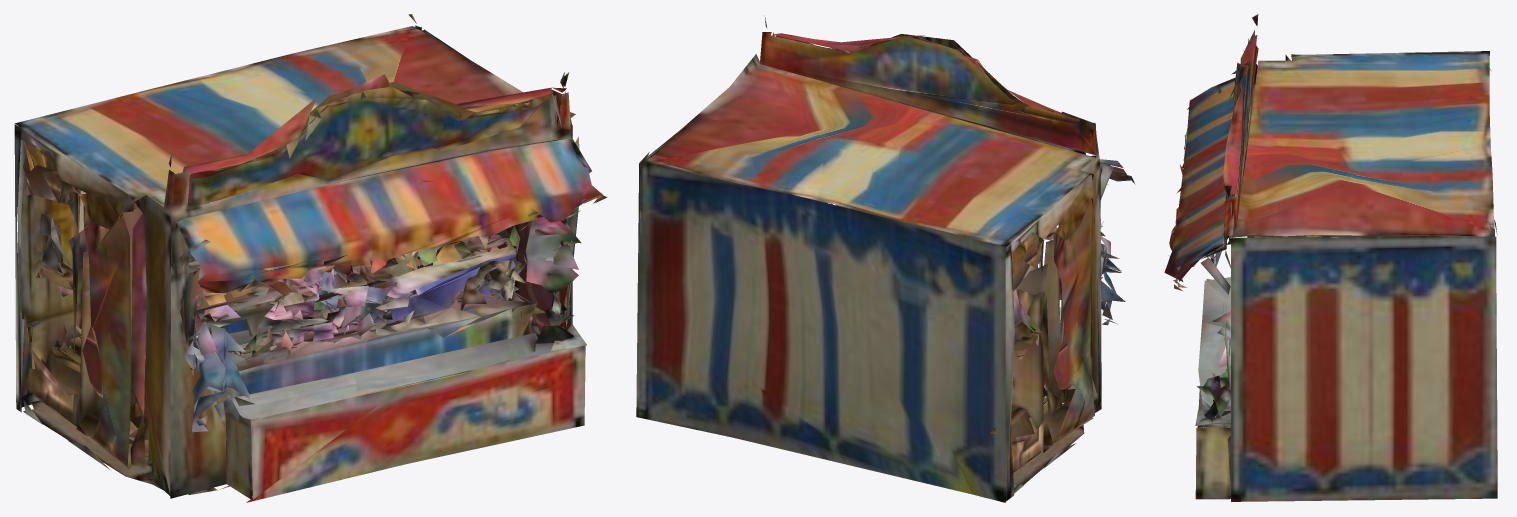
Rendered from jahrmarkt_losbude.glb.
The picture shows the model from 3 angles, left to right: view 1: azimuth 30°, elevation 25°; view 2: azimuth 150°, elevation 25°; view 3: azimuth 270°, elevation 25°; orthographic projection. The views are drawn at different scales.
Visible parts, largest first — view 1: Prop; view 2: Prop; view 3: Prop.
Part boxes in pixels (left/top/right/bottom): Prop: left=14, top=14, right=607, bottom=502; Prop: left=636, top=15, right=1135, bottom=502; Prop: left=1164, top=14, right=1497, bottom=501.
Size of the model in its own units: 1.25 by 1.03 by 0.8992.
1 material, 1 textured.
